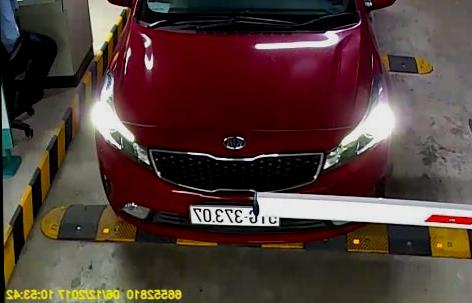License_Plate: (188, 199, 282, 230)
